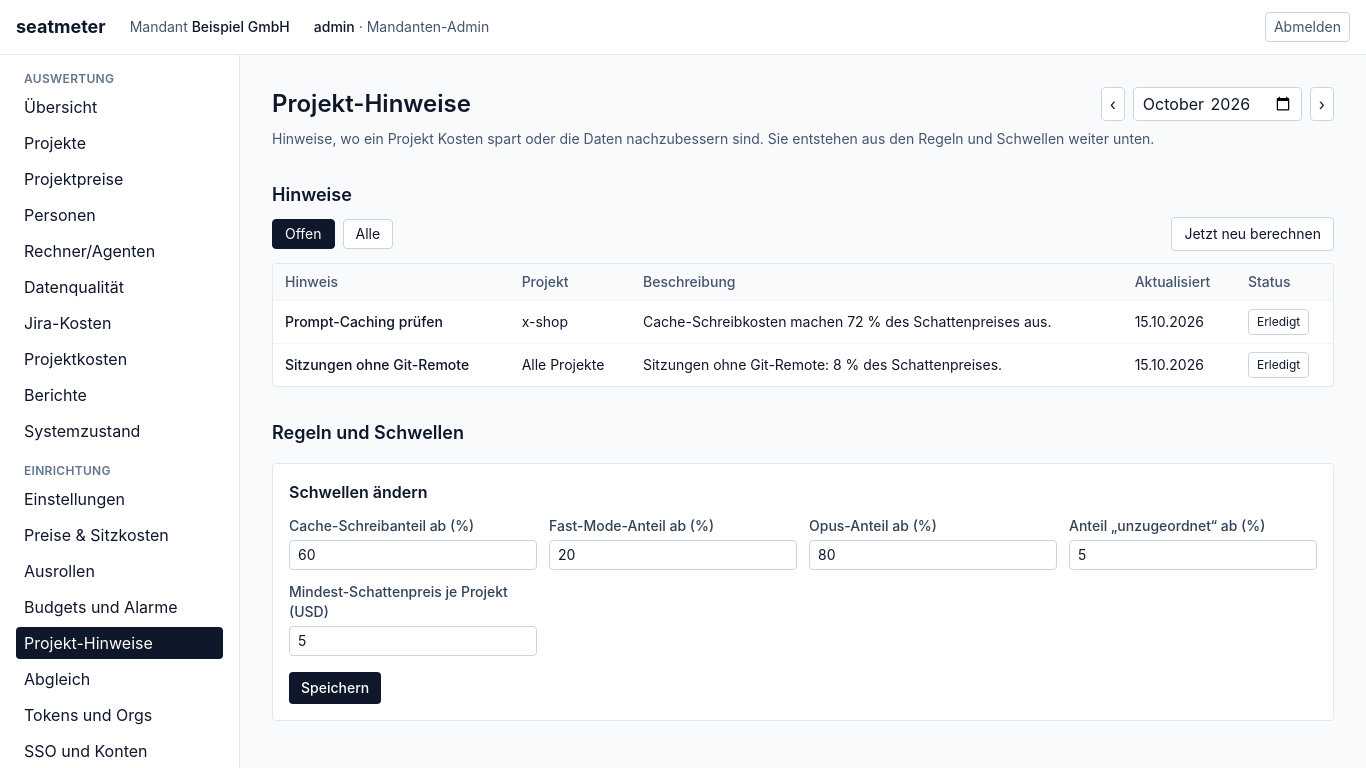
Scenario: Projekt-Hinweise › markiert einen Hinweis als erledigt (POST /erledigt mit CSRF) und lädt neu
Click the button with aria-label "Prompt-Caching prüfen als erledigt markieren" at (1279, 322), box 1248,309 -> 1309,335
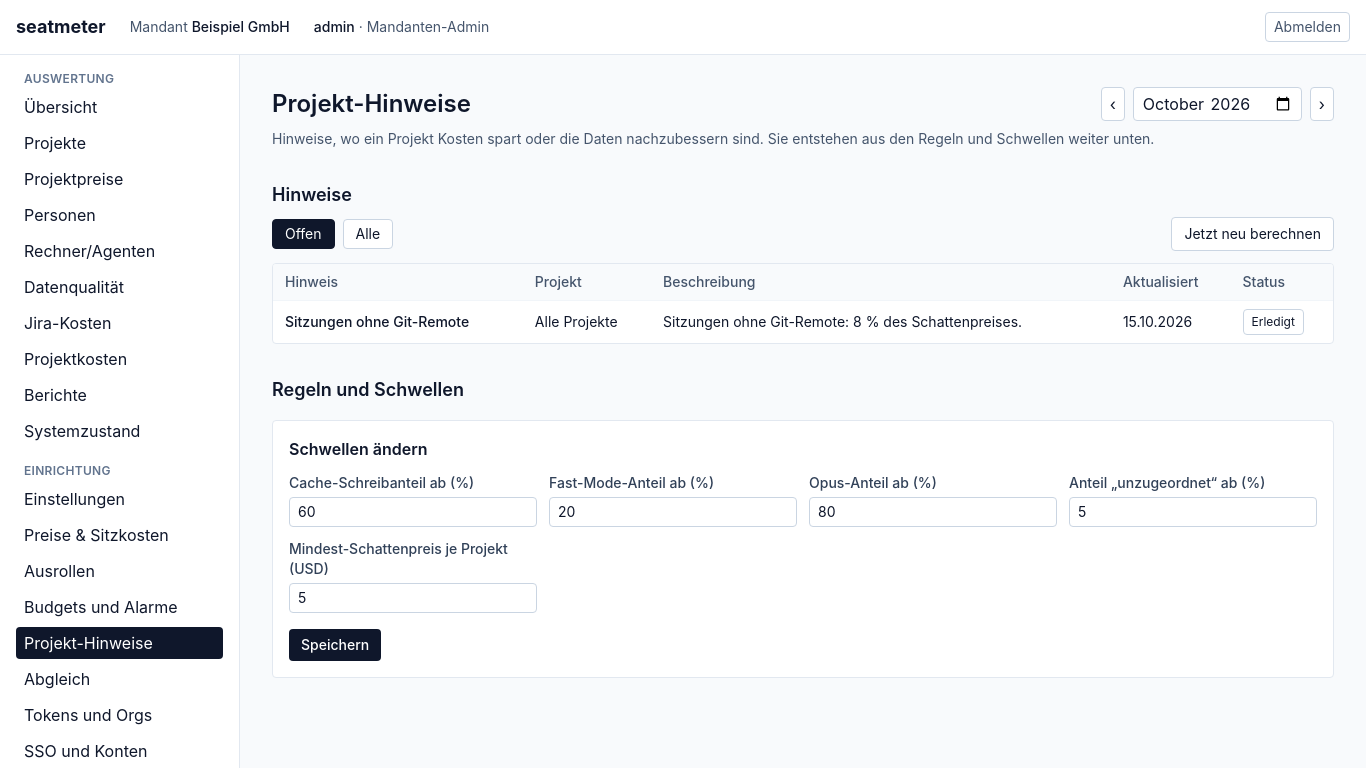
Expected: the table named "Projekt-Hinweise im Monat" is shown, 273,264 -> 1333,343
Expected: the text "Prompt-Caching prüfen" is gone
